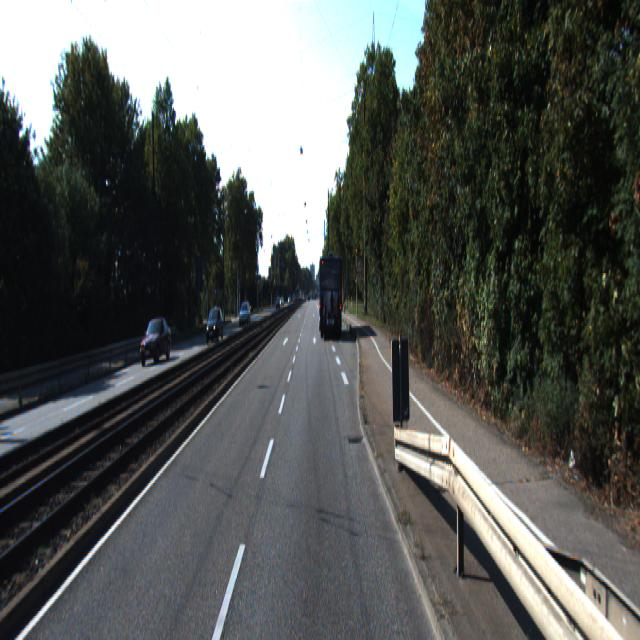Car: (319, 255, 343, 341), (139, 321, 173, 368)
